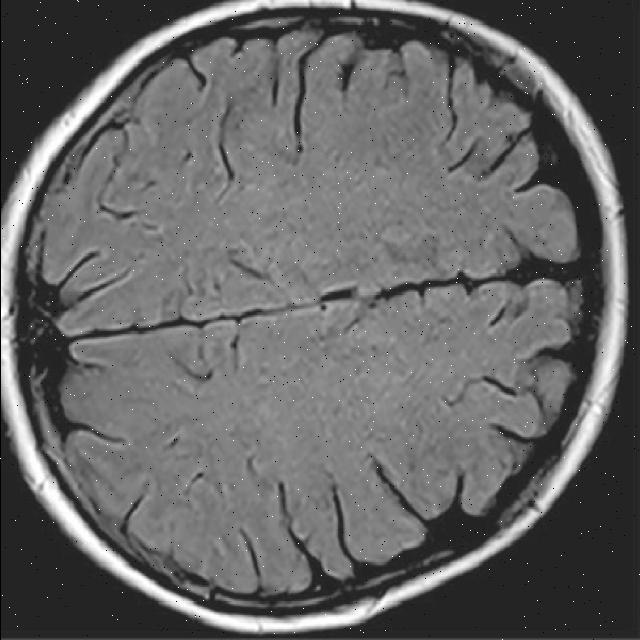No_Tumor: (3, 0, 626, 632)
